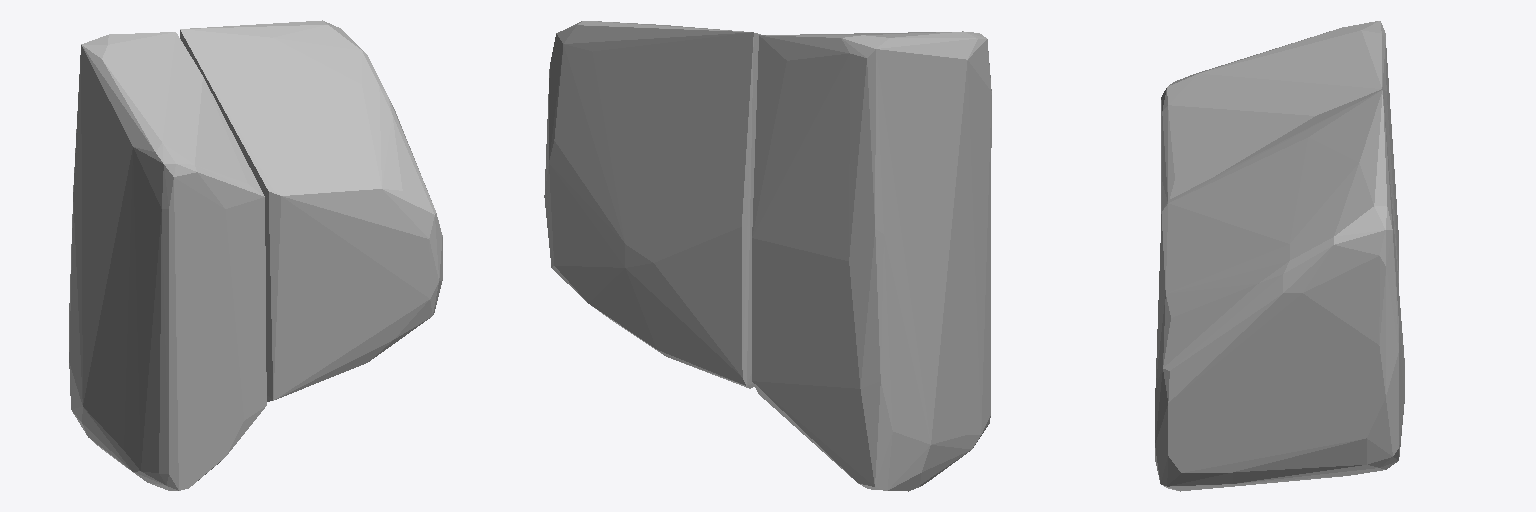
The robot description file, URDF, robot "root":
<robot name="root">
  <link name="link_rock19_convex_piece_0">
    <inertial>
      <origin rpy="0 0 0" xyz="0 0 0"/>
      <mass value="2.42E+05"/>
      <inertia ixx="-1.85E+08" ixy="2.64E+09" ixz="-4.07E+09" iyy="-4.60E+09" iyz="9.95E+07" izz="-3.72E+09"/>
    </inertial>
    <visual>
      <origin rpy="0 0 0" xyz="0 0 0"/>
      <geometry>
        <mesh filename="rock19_convex_piece_0.obj" scale="1.0000E+00 1.0000E+00 1.0000E+00"/>
      </geometry>
      <material name="">
        <color rgba="7.50E-01 7.50E-01 7.50E-01 1"/>
      </material>
    </visual>
    <collision>
      <origin rpy="0 0 0" xyz="0 0 0"/>
      <geometry>
        <mesh filename="rock19_convex_piece_0.obj" scale="1.0000E+00 1.0000E+00 1.0000E+00"/>
      </geometry>
    </collision>
  </link>
  <link name="link_rock19_convex_piece_1">
    <inertial>
      <origin rpy="0 0 0" xyz="0 0 0"/>
      <mass value="2.69E+05"/>
      <inertia ixx="1.27E+09" ixy="-2.47E+09" ixz="3.81E+09" iyy="5.26E+09" iyz="-3.40E+08" izz="4.17E+09"/>
    </inertial>
    <visual>
      <origin rpy="0 0 0" xyz="0 0 0"/>
      <geometry>
        <mesh filename="rock19_convex_piece_1.obj" scale="1.0000E+00 1.0000E+00 1.0000E+00"/>
      </geometry>
      <material name="">
        <color rgba="7.50E-01 7.50E-01 7.50E-01 1"/>
      </material>
    </visual>
    <collision>
      <origin rpy="0 0 0" xyz="0 0 0"/>
      <geometry>
        <mesh filename="rock19_convex_piece_1.obj" scale="1.0000E+00 1.0000E+00 1.0000E+00"/>
      </geometry>
    </collision>
  </link>
  <joint name="link_rock19_convex_piece_1_joint" type="fixed">
    <origin rpy="0 0 0" xyz="0 0 0"/>
    <parent link="link_rock19_convex_piece_0"/>
    <child link="link_rock19_convex_piece_1"/>
  </joint>
</robot>

--- What the picture shows (computed from the rendered views, not written in the file) ---
3 views of the same robot in one strip: view 1: azimuth 30°, elevation 25°; view 2: azimuth 150°, elevation 25°; view 3: azimuth 270°, elevation 25° (orthographic).
Model root with 2 links and 1 joints (1 fixed), rooted at link_rock19_convex_piece_0, posed every joint at zero.
Visible links, largest first — view 1: link_rock19_convex_piece_0, link_rock19_convex_piece_1; view 2: link_rock19_convex_piece_0, link_rock19_convex_piece_1; view 3: link_rock19_convex_piece_1, link_rock19_convex_piece_0.
Boxes of the visible links, bbox=[...] form: link_rock19_convex_piece_0: bbox=[69, 32, 266, 490]; link_rock19_convex_piece_1: bbox=[180, 20, 442, 401]; link_rock19_convex_piece_0: bbox=[752, 31, 991, 491]; link_rock19_convex_piece_1: bbox=[544, 21, 760, 388]; link_rock19_convex_piece_1: bbox=[1155, 90, 1404, 491]; link_rock19_convex_piece_0: bbox=[1161, 21, 1398, 282].
Bounding box of the posed robot: 106 × 66.11 × 133 m (x, y, z).
2 mesh visuals loaded from 2 distinct referenced files (2 OBJ).
